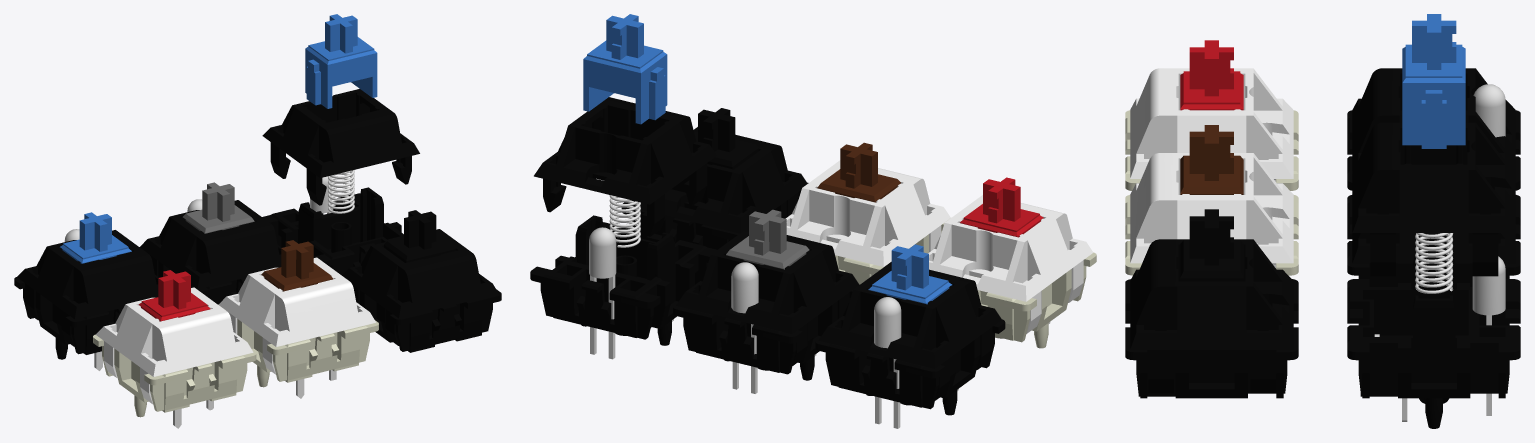
Rendered from Switchs.fbx.
3 views of the same model, side by side, from view 1: azimuth 30°, elevation 25°; view 2: azimuth 150°, elevation 25°; view 3: azimuth 270°, elevation 25° (orthographic). The views are drawn at different scales.
Parts seen in each view (by area): view 1: Mid Top.001, Mid Top PCB LED, Low Top PCB LED, Very Low Top PCB LED, Mid Top, Low Top, Mid Bottom.001, Mid Bottom PCB LED, Mid Switch.001, Low Bottom PCB LED, Very Low Bottom PCB LED, Mid Bottom (+7 smaller); view 2: Mid Top.001, Mid Bottom.001, Mid Top PCB LED, Mid Top, Low Top, Low Top PCB LED, Very Low Top PCB LED, Mid Bottom, Mid Switch.001, Low Bottom, Mid Bottom PCB LED, Low Switch (+10 smaller); view 3: Mid Bottom.001, Mid Top.001, Very Low Top PCB LED, Low Top PCB LED, Mid Top PCB LED, Mid Switch.001, Very Low Bottom PCB LED, Mid Top, Very Low Switch PCB LED, Mid Switch PCB LED, Low Switch PCB LED, Low Top (+7 smaller).
Boxes of the visible parts, box(x1,y1,x2,y2) form: Mid Top.001: box(262, 89, 419, 205); Mid Top PCB LED: box(96, 287, 253, 404); Low Top PCB LED: box(218, 257, 375, 374); Very Low Top PCB LED: box(342, 229, 498, 345); Mid Top: box(17, 230, 158, 346); Low Top: box(140, 200, 281, 289); Mid Bottom.001: box(262, 187, 403, 274); Mid Bottom PCB LED: box(93, 334, 256, 417); Mid Switch.001: box(305, 14, 377, 108); Low Bottom PCB LED: box(218, 304, 378, 387); Very Low Bottom PCB LED: box(341, 274, 501, 352); Mid Bottom: box(14, 277, 123, 359); Mid Top.001: box(534, 97, 716, 236); Mid Bottom.001: box(530, 215, 716, 345); Mid Top PCB LED: box(928, 195, 1093, 333); Mid Top: box(818, 262, 1001, 400); Low Top: box(676, 227, 859, 365); Low Top PCB LED: box(785, 160, 950, 266); Very Low Top PCB LED: box(626, 127, 807, 233); Mid Bottom: box(815, 319, 1005, 415); Mid Switch.001: box(583, 14, 667, 124); Low Bottom: box(673, 285, 858, 380); Mid Bottom PCB LED: box(969, 252, 1096, 348); Low Switch: box(726, 209, 809, 269); Mid Bottom.001: box(1347, 254, 1520, 428); Mid Top.001: box(1352, 122, 1515, 276); Very Low Top PCB LED: box(1130, 239, 1293, 393); Low Top PCB LED: box(1130, 153, 1293, 267); Mid Top PCB LED: box(1130, 68, 1293, 181); Mid Switch.001: box(1402, 14, 1465, 148); Very Low Bottom PCB LED: box(1125, 279, 1298, 398); Mid Top: box(1352, 68, 1515, 163); Very Low Switch PCB LED: box(1180, 209, 1243, 281); Mid Switch PCB LED: box(1180, 40, 1243, 110); Low Switch PCB LED: box(1180, 125, 1243, 194); Low Top: box(1352, 233, 1515, 286).
Bounding box in the file's own units: 5.16 × 3.83 × 3.56.
